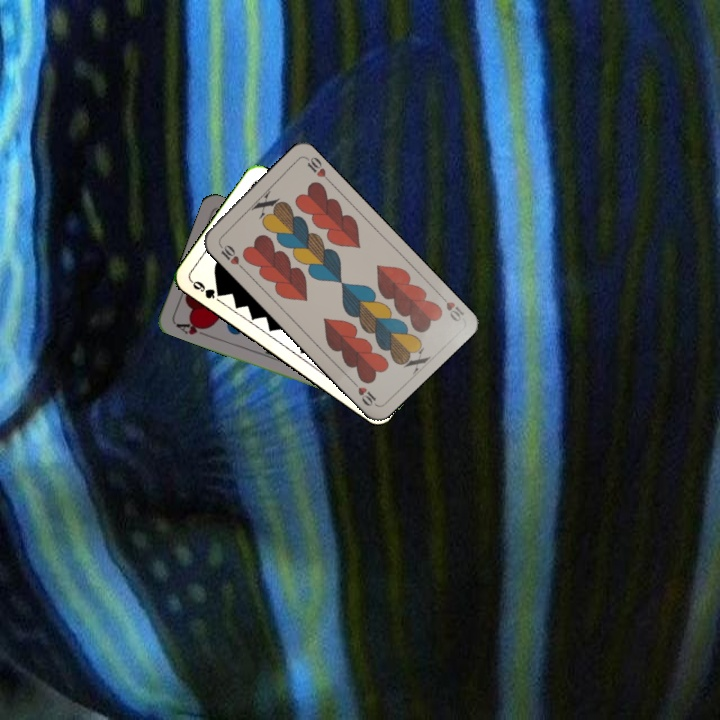G9: (187, 276, 226, 301)
H10: (434, 289, 467, 324), (214, 239, 246, 272)
HA: (172, 317, 212, 339)
